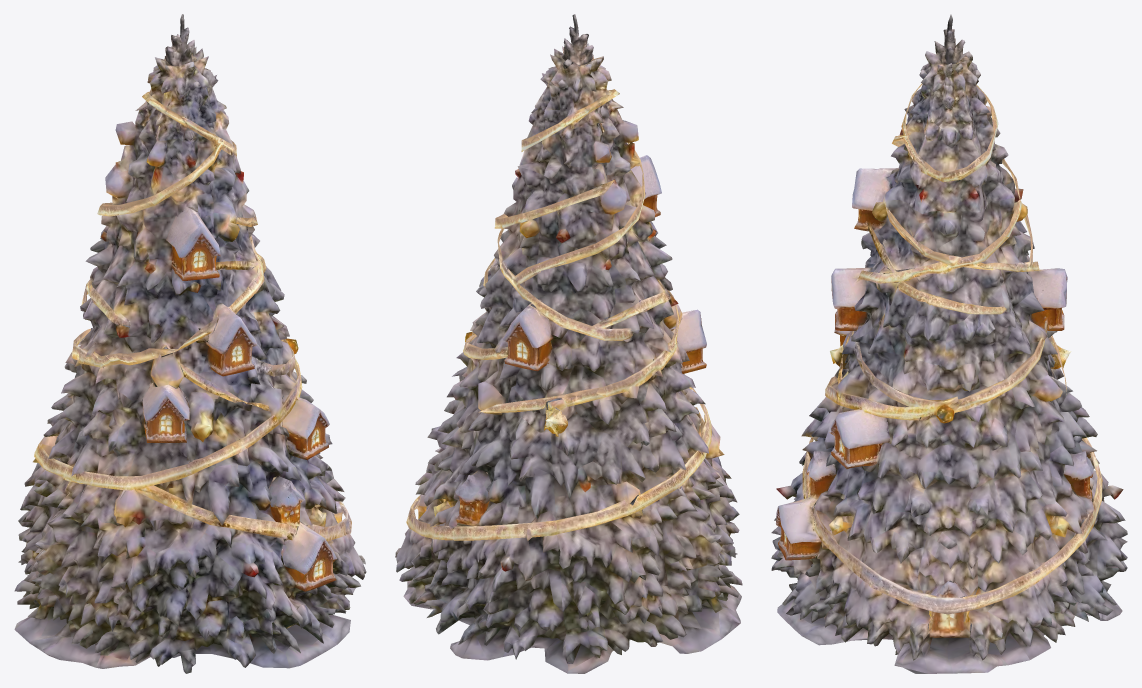
Rendered from christmas_tree_far.glb.
The picture shows the model from 3 angles, left to right: view 1: azimuth 30°, elevation 25°; view 2: azimuth 150°, elevation 25°; view 3: azimuth 270°, elevation 25°; orthographic projection.
Parts seen in each view (by area): view 1: tripo_part_0, tripo_part_1, tripo_part_9, tripo_part_2, tripo_part_5, tripo_part_4, tripo_part_3, tripo_part_7, tripo_part_10, tripo_part_11, tripo_part_13; view 2: tripo_part_0, tripo_part_9, tripo_part_1, tripo_part_6, tripo_part_10, tripo_part_12, tripo_part_3, tripo_part_11, tripo_part_5; view 3: tripo_part_0, tripo_part_1, tripo_part_9, tripo_part_2, tripo_part_7, tripo_part_6, tripo_part_4, tripo_part_5, tripo_part_8, tripo_part_12, tripo_part_11.
Boxes of the visible parts, left/top/right/bottom form: tripo_part_0: left=14, top=47, right=366, bottom=673; tripo_part_1: left=34, top=338, right=351, bottom=541; tripo_part_9: left=81, top=91, right=266, bottom=325; tripo_part_2: left=269, top=476, right=337, bottom=591; tripo_part_5: left=166, top=207, right=220, bottom=280; tripo_part_4: left=205, top=303, right=256, bottom=376; tripo_part_3: left=142, top=382, right=190, bottom=442; tripo_part_7: left=282, top=395, right=329, bottom=459; tripo_part_10: left=72, top=316, right=218, bottom=367; tripo_part_11: left=165, top=14, right=196, bottom=66; tripo_part_13: left=179, top=362, right=270, bottom=411; tripo_part_0: left=395, top=43, right=742, bottom=673; tripo_part_9: left=483, top=89, right=670, bottom=340; tripo_part_1: left=406, top=331, right=711, bottom=540; tripo_part_6: left=503, top=299, right=553, bottom=371; tripo_part_10: left=478, top=291, right=679, bottom=412; tripo_part_12: left=455, top=469, right=490, bottom=526; tripo_part_3: left=670, top=309, right=706, bottom=373; tripo_part_11: left=562, top=14, right=593, bottom=68; tripo_part_5: left=631, top=155, right=661, bottom=217; tripo_part_0: left=771, top=51, right=1127, bottom=673; tripo_part_1: left=802, top=318, right=1102, bottom=614; tripo_part_9: left=857, top=83, right=1039, bottom=314; tripo_part_2: left=776, top=451, right=836, bottom=560; tripo_part_7: left=829, top=409, right=889, bottom=468; tripo_part_6: left=1028, top=268, right=1067, bottom=330; tripo_part_4: left=831, top=267, right=872, bottom=330; tripo_part_5: left=852, top=168, right=898, bottom=231; tripo_part_8: left=928, top=581, right=970, bottom=637; tripo_part_12: left=1063, top=451, right=1093, bottom=500; tripo_part_11: left=934, top=14, right=972, bottom=64.
Bounding box in the file's own units: 0.5361 × 0.9796 × 0.5414.
Materials: 15 (15 with a texture image).
